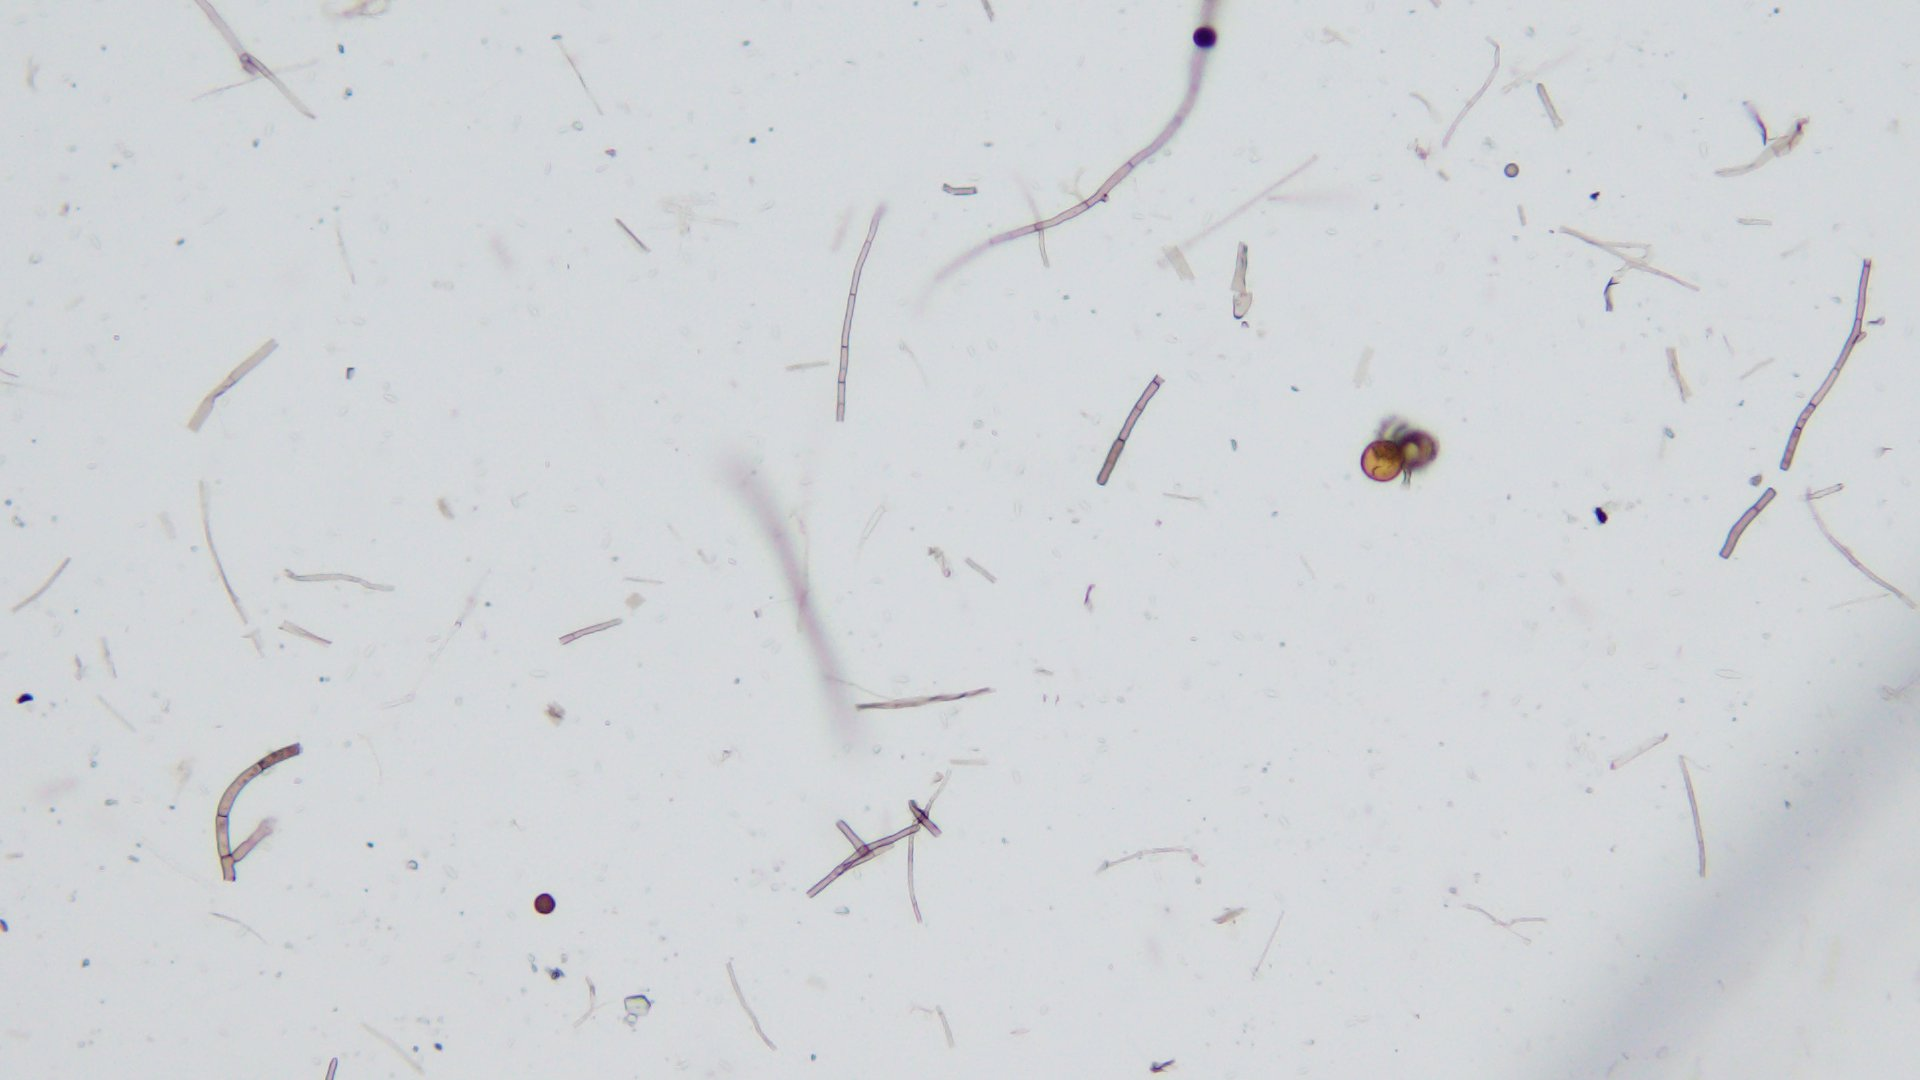shs_spore: (1189, 26, 1217, 47), (531, 893, 556, 914)
xb_spore: (1361, 440, 1403, 483), (1396, 433, 1439, 469)
